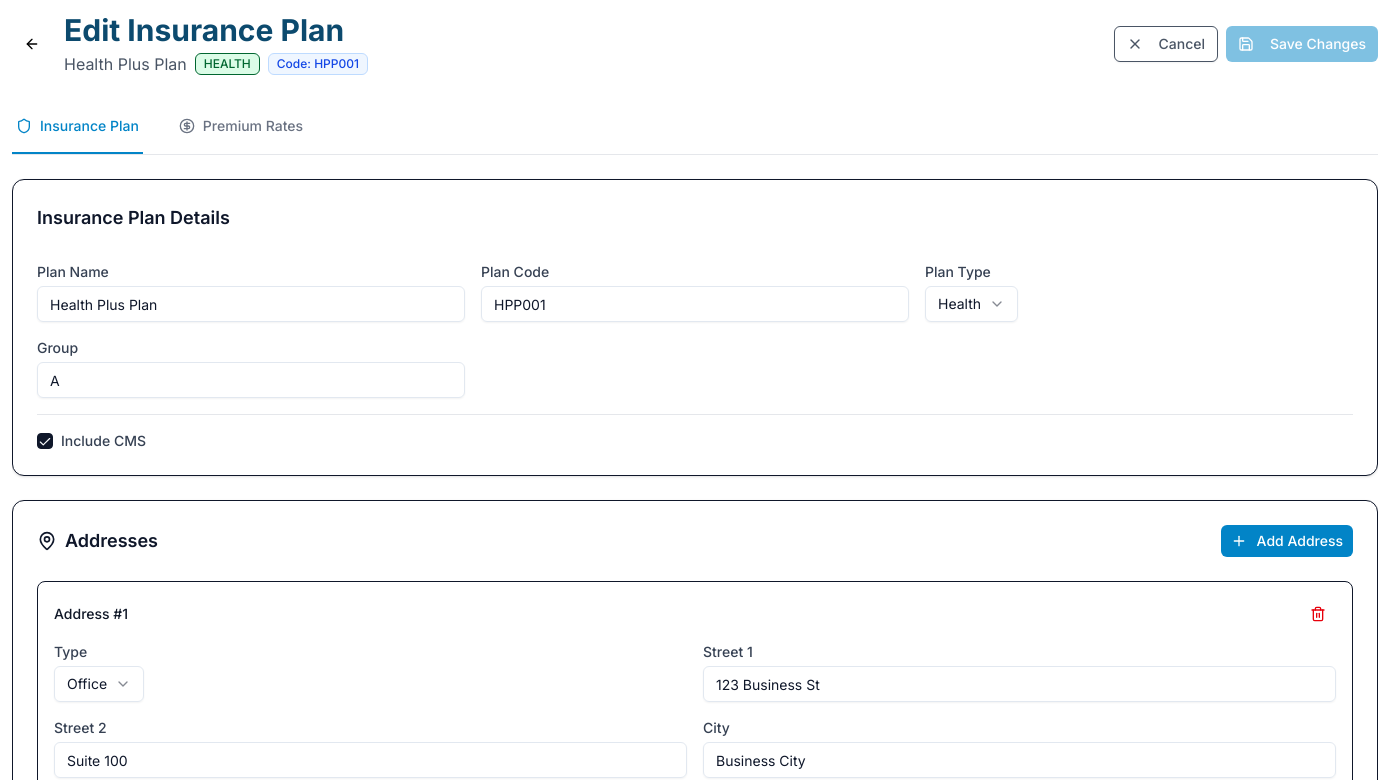
Test case: InsurancePlanDetailPage › Premium Rates Management › should display existing premium rates in premium rates tab
Note: Switch to premium rates tab
Click the button "Premium Rates" at point(241, 127), box [175,100,307,154]
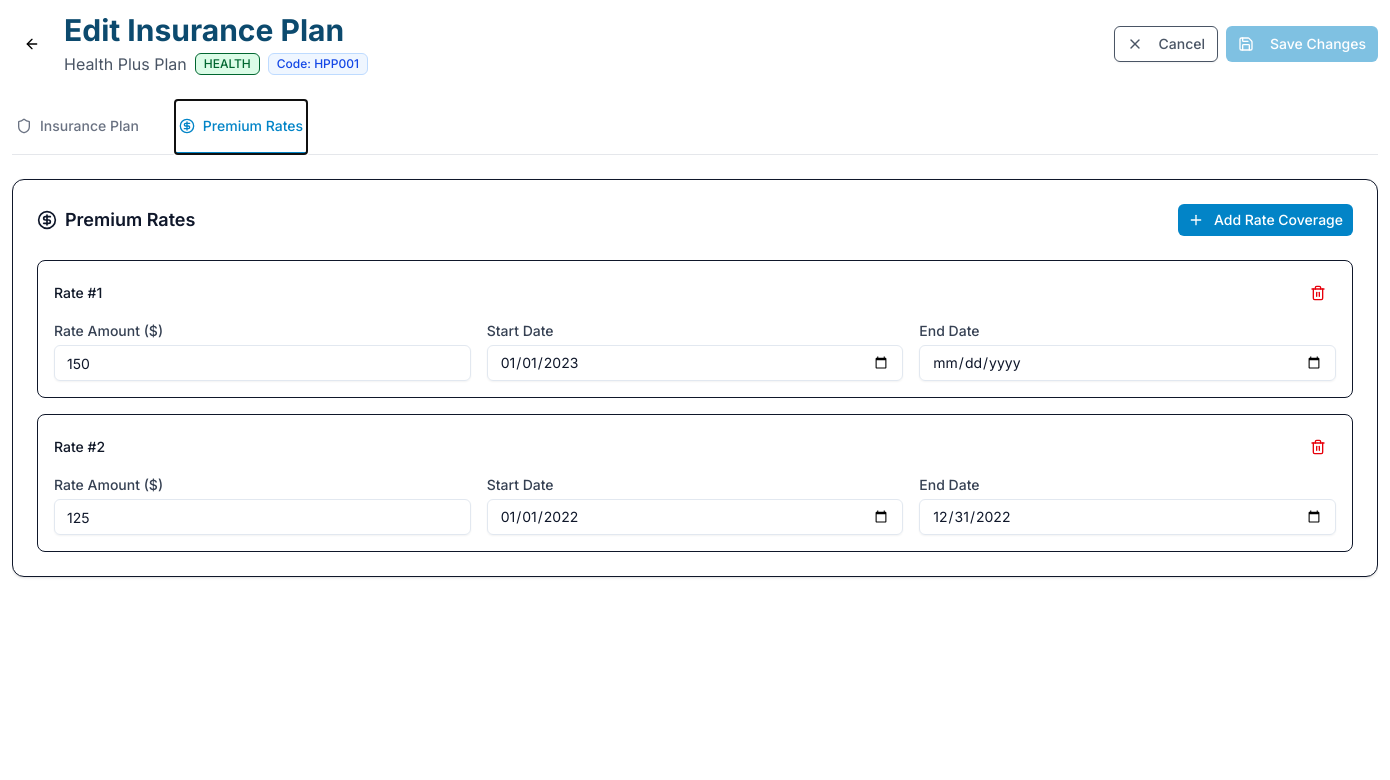
Result: the 1st number field showing "150" is shown at [54,345,471,381]
Result: the 2nd number field showing "125" is shown at [54,499,471,535]
